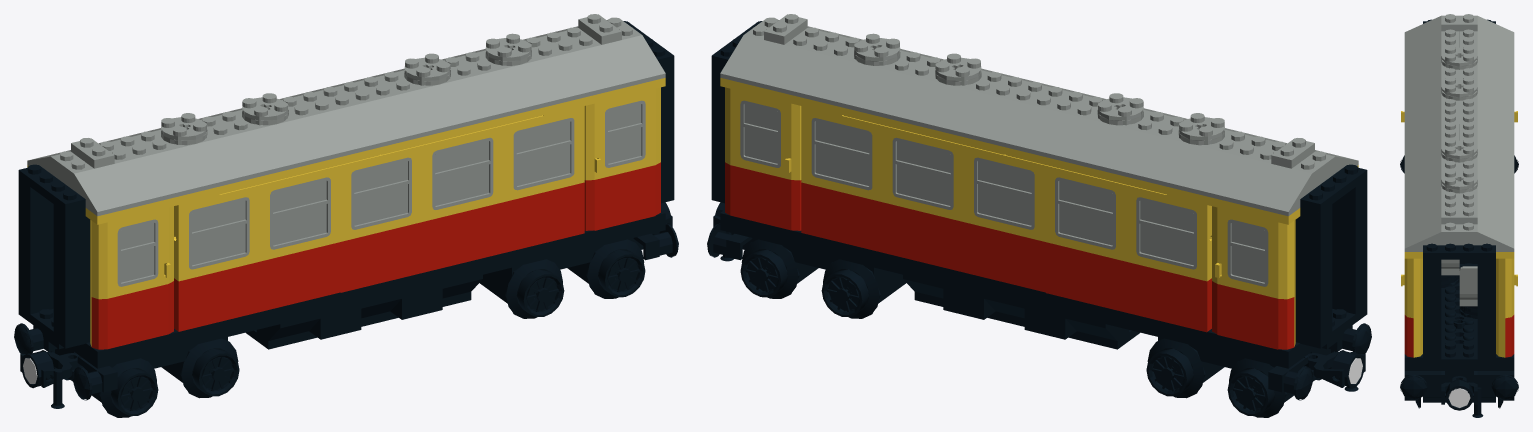
Rendered from Passenger Car.gltf.
3 views of the same model, side by side, from view 1: azimuth 30°, elevation 25°; view 2: azimuth 150°, elevation 25°; view 3: azimuth 270°, elevation 25° (orthographic). The views are drawn at different scales.
Parts seen in each view (by area): view 1: 3003.dat, 4181p02.dat, 4182p02.dat, 3297.dat.004, 3297.dat.006, 3297.dat, 3297.dat.010, 3297.dat.008, 3297.dat.002, 3008.dat.004, 3008.dat.003, 3008.dat.005 (+53 smaller); view 2: 3003.dat, 4182p02.dat.001, 4181p02.dat.001, 3297.dat.005, 3297.dat.007, 3297.dat.001, 3297.dat.011, 3297.dat.009, 3297.dat.003, 3008.dat, 3008.dat.002, 3008.dat.001 (+53 smaller); view 3: 3003.dat, 4180c02.dat, 4181p02.dat.001, 4182p02.dat, 3297.dat.006, 3297.dat.007, 3297.dat.001, 3297.dat, 3297.dat.010, 3297.dat.011, 3297.dat.004, 3297.dat.005 (+38 smaller).
Boxes of the visible parts, bbox=[...] form: 3003.dat: bbox=[69, 210, 665, 368]; 4181p02.dat: bbox=[90, 206, 173, 349]; 4182p02.dat: bbox=[584, 87, 660, 230]; 3297.dat.004: bbox=[347, 80, 462, 146]; 3297.dat.006: bbox=[277, 95, 381, 166]; 3297.dat: bbox=[521, 36, 625, 107]; 3297.dat.010: bbox=[112, 140, 219, 206]; 3297.dat.008: bbox=[196, 120, 300, 186]; 3297.dat.002: bbox=[439, 60, 543, 126]; 3008.dat.004: bbox=[174, 267, 340, 331]; 3008.dat.003: bbox=[422, 208, 584, 272]; 3008.dat.005: bbox=[300, 212, 462, 277]; 3003.dat: bbox=[720, 210, 1316, 368]; 4182p02.dat.001: bbox=[1212, 206, 1295, 349]; 4181p02.dat.001: bbox=[725, 87, 801, 230]; 3297.dat.005: bbox=[923, 80, 1038, 146]; 3297.dat.007: bbox=[1004, 95, 1108, 166]; 3297.dat.001: bbox=[760, 36, 864, 107]; 3297.dat.011: bbox=[1166, 140, 1273, 206]; 3297.dat.009: bbox=[1085, 120, 1189, 186]; 3297.dat.003: bbox=[842, 60, 946, 126]; 3008.dat: bbox=[1045, 267, 1211, 332]; 3008.dat.002: bbox=[923, 212, 1085, 277]; 3008.dat.001: bbox=[801, 208, 963, 272]; 3003.dat: bbox=[1404, 259, 1514, 370]; 4180c02.dat: bbox=[1400, 319, 1518, 399]; 4181p02.dat.001: bbox=[1496, 258, 1517, 357]; 4182p02.dat: bbox=[1401, 258, 1422, 357]; 3297.dat.006: bbox=[1404, 93, 1459, 140]; 3297.dat.007: bbox=[1459, 93, 1514, 139]; 3297.dat.001: bbox=[1459, 185, 1514, 232]; 3297.dat: bbox=[1404, 185, 1459, 232]; 3297.dat.010: bbox=[1404, 29, 1459, 78]; 3297.dat.011: bbox=[1459, 29, 1514, 78]; 3297.dat.004: bbox=[1404, 122, 1459, 170]; 3297.dat.005: bbox=[1459, 122, 1514, 170].
Size of the model in its own units: 249 by 96.51 by 52.
Materials: 1 (1 with a texture image).
